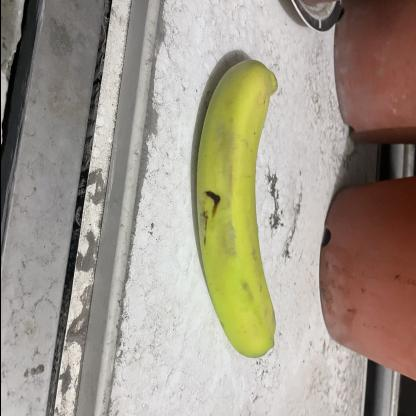banana: (187, 46, 286, 368)
